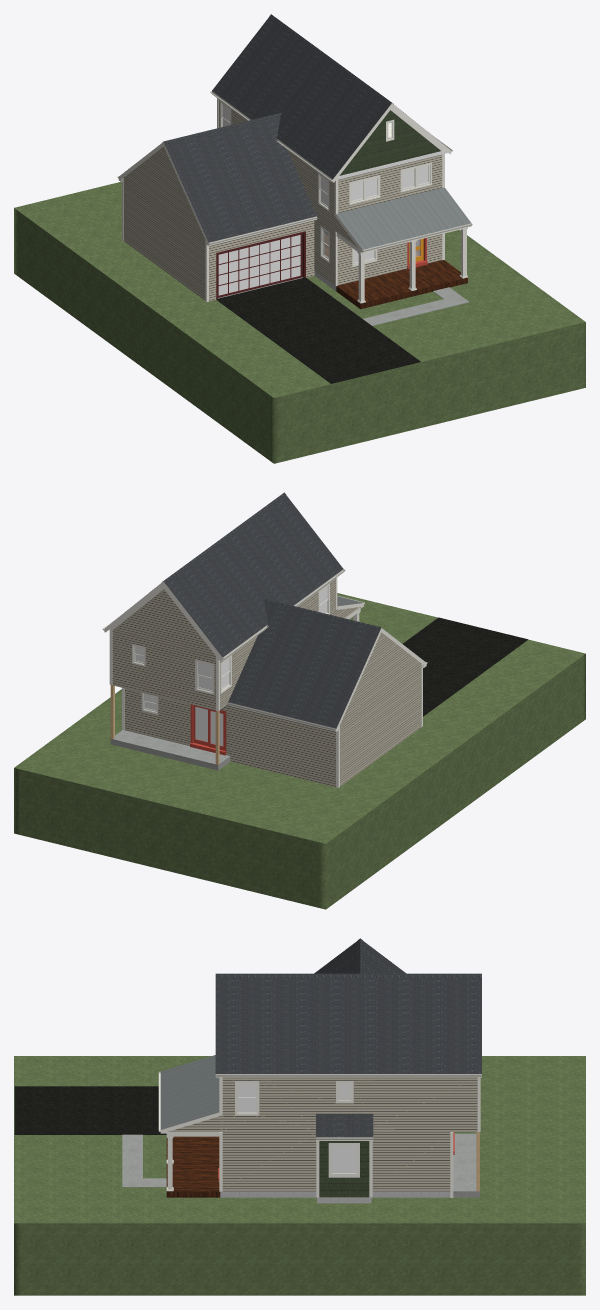
Rendered from house.dae.
3 renders of one model, top to bottom at view 1: azimuth 30°, elevation 25°; view 2: azimuth 150°, elevation 25°; view 3: azimuth 270°, elevation 25°, orthographic. The views are drawn at different scales.
Visible parts, largest first — view 1: geo_132, geo_131, geo_171, geo_192, geo_11, geo_140, geo_127, geo_136, geo_142, geo_193, geo_61; view 2: geo_132, geo_131, geo_171, geo_192, geo_11, geo_61, geo_127, geo_187, geo_105; view 3: geo_132, geo_131, geo_171, geo_192, geo_11, geo_140, geo_136, geo_61, geo_138, geo_173, geo_127.
Boxes of the visible parts, x1,y1,x2,y2 form: geo_132: [14, 182, 585, 463]; geo_131: [125, 14, 432, 242]; geo_171: [123, 99, 442, 301]; geo_192: [216, 277, 420, 383]; geo_11: [117, 91, 472, 303]; geo_140: [336, 187, 471, 249]; geo_127: [218, 105, 428, 295]; geo_136: [336, 260, 467, 309]; geo_142: [339, 110, 440, 175]; geo_193: [216, 231, 305, 299]; geo_61: [218, 277, 469, 325]; geo_132: [14, 593, 585, 909]; geo_131: [125, 492, 382, 728]; geo_171: [112, 578, 421, 787]; geo_192: [403, 617, 528, 716]; geo_11: [102, 569, 427, 787]; geo_61: [110, 730, 230, 770]; geo_127: [135, 587, 327, 746]; geo_187: [190, 704, 226, 755]; geo_105: [110, 685, 219, 764]; geo_132: [14, 1056, 585, 1295]; geo_131: [215, 938, 481, 1137]; geo_171: [168, 1077, 477, 1191]; geo_192: [14, 1086, 166, 1134]; geo_11: [158, 1071, 481, 1197]; geo_140: [160, 1055, 219, 1129]; geo_136: [166, 1136, 220, 1197]; geo_61: [122, 1133, 479, 1197]; geo_138: [319, 1141, 369, 1197]; geo_173: [220, 1191, 450, 1203]; geo_127: [238, 1083, 356, 1173].
Bounding box in the file's own units: 696 × 1005 × 518.
54 materials, 27 textured.
